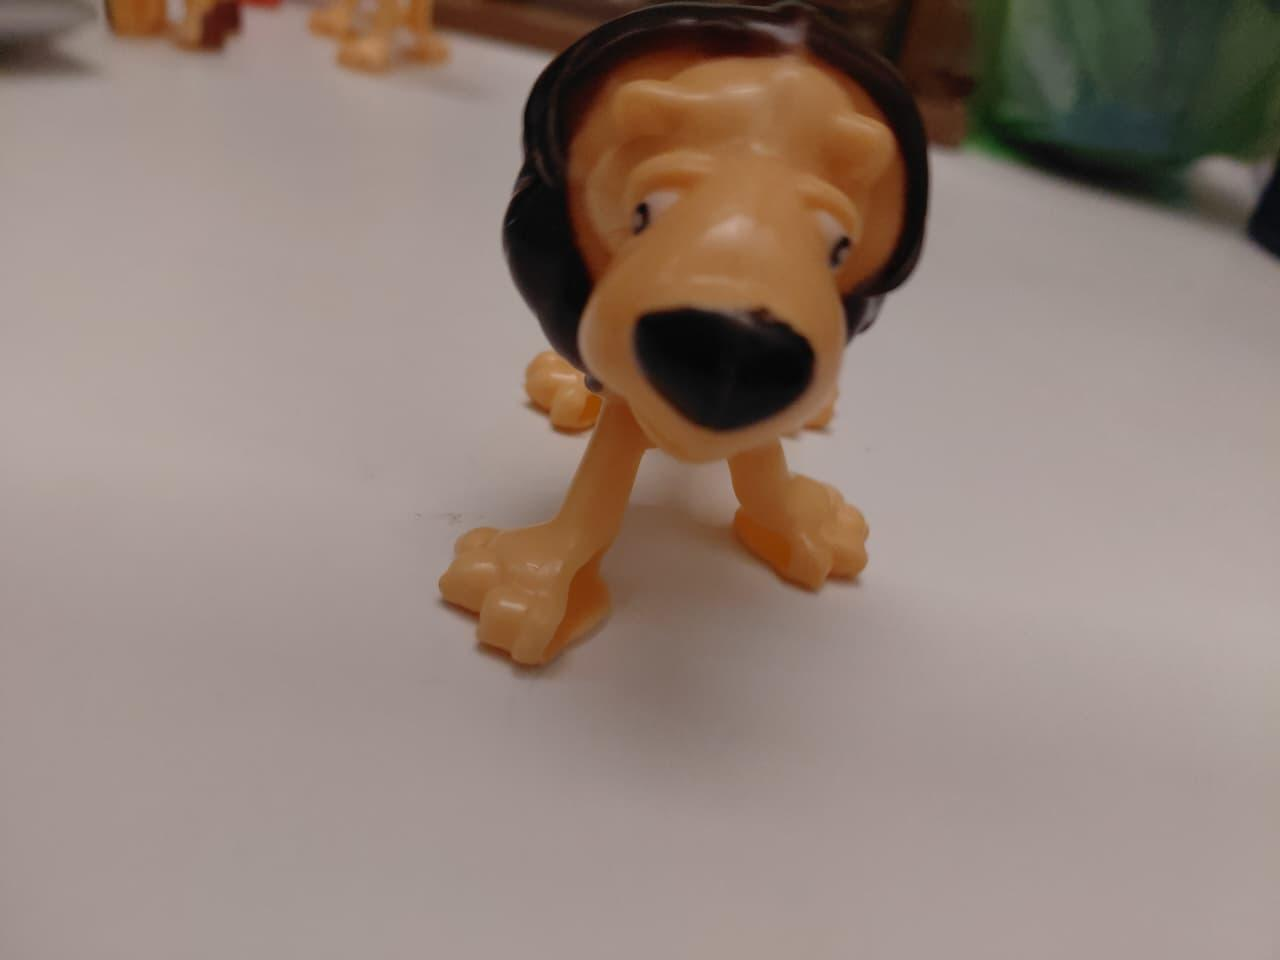lion: (427, 4, 945, 695)
